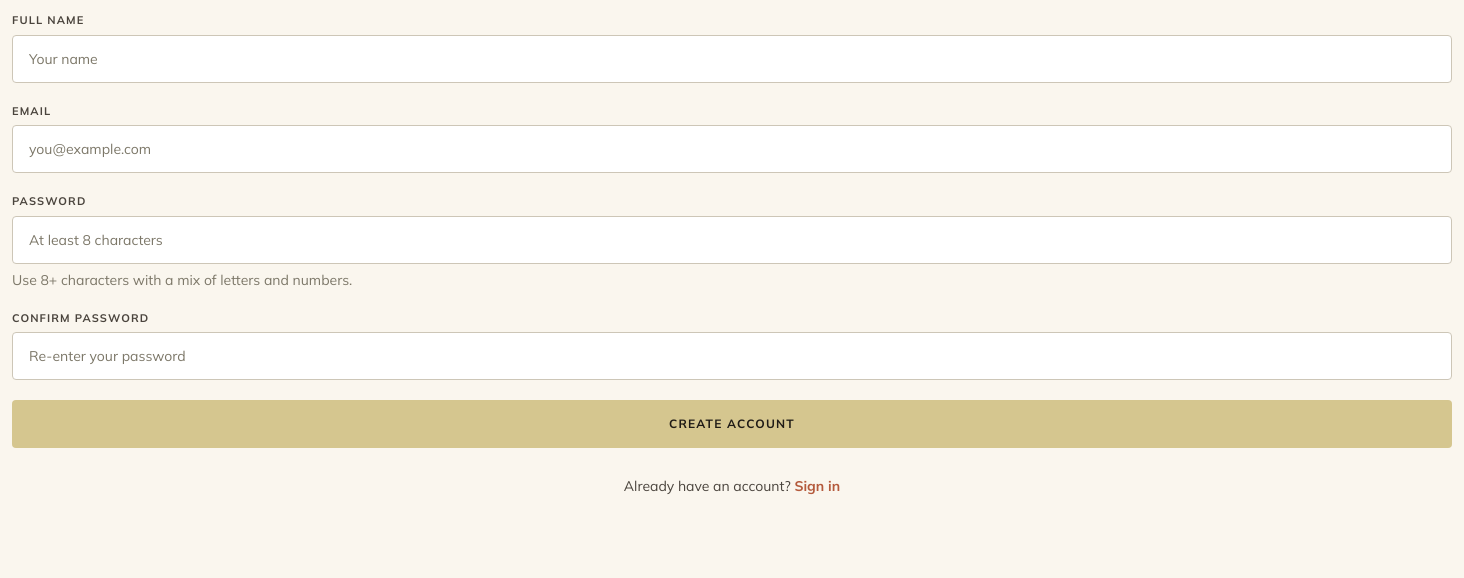
Test case: RegisterForm › shows a generic error for other failures
The image size is (1464, 578).
Type "Jane Doe" into the field with test id "register-name-input" at {"x": 732, "y": 58}, box [12,34,1452,82]
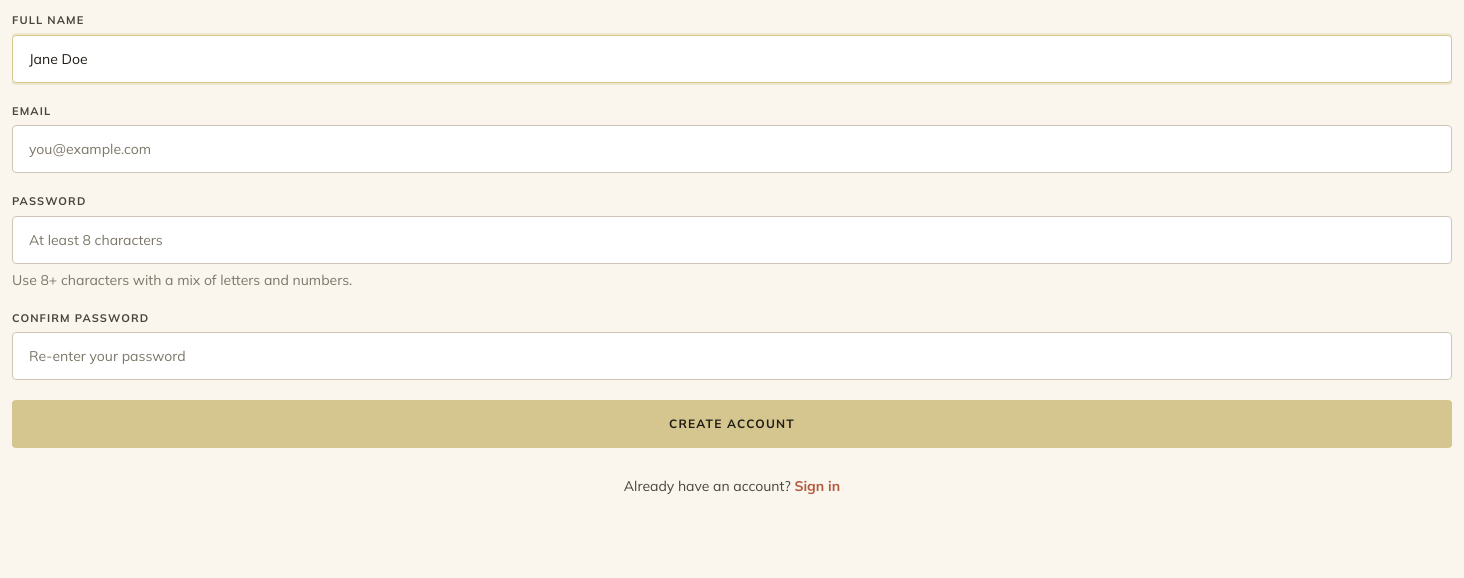
Type "jane@example.com" into the field with test id "register-email-input" at {"x": 732, "y": 149}, box [12,125,1452,173]
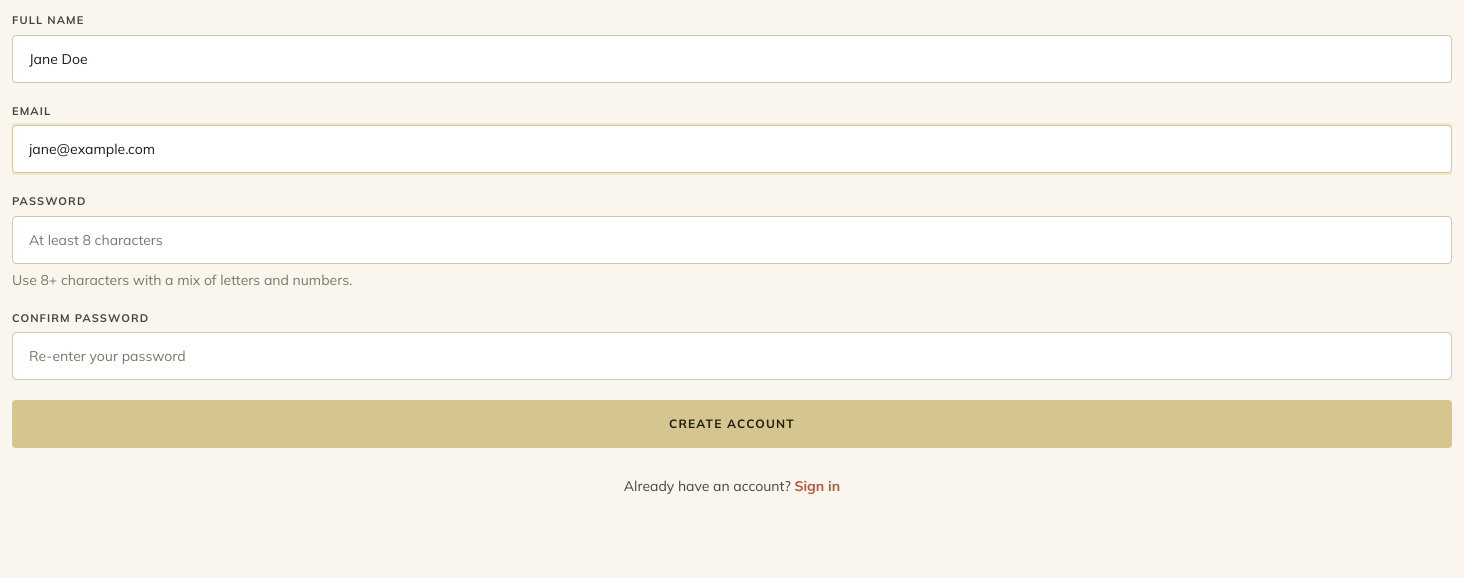
Type "password123" into the password field with test id "register-password-input" at {"x": 732, "y": 240}, box [12,216,1452,264]
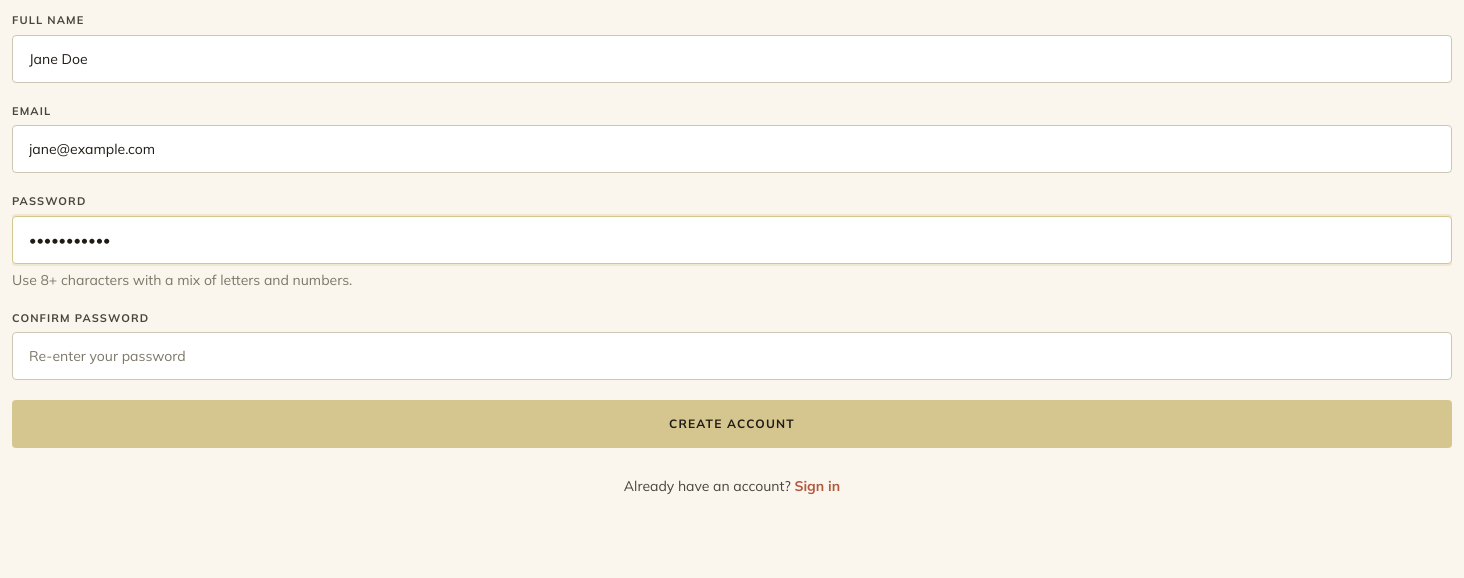
Type "password123" into the password field with test id "register-confirm-password-input" at {"x": 732, "y": 356}, box [12,332,1452,380]
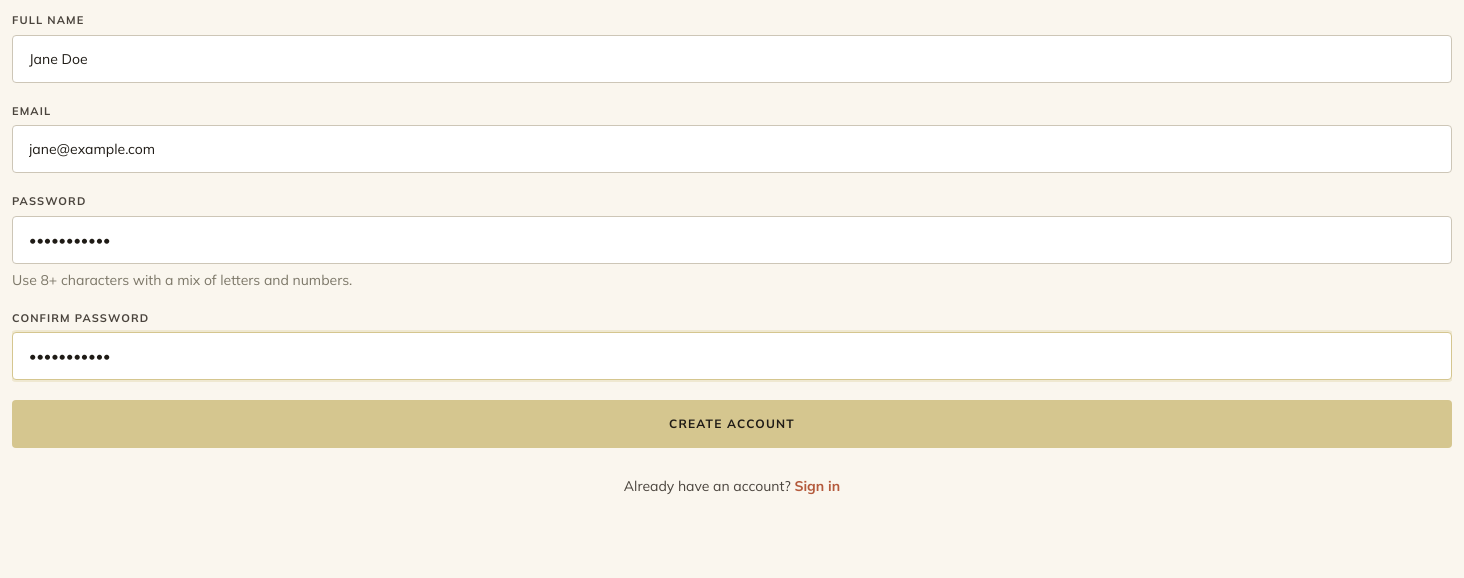
Click the button with test id "register-submit-button" at {"x": 732, "y": 424}, box [12,400,1452,448]
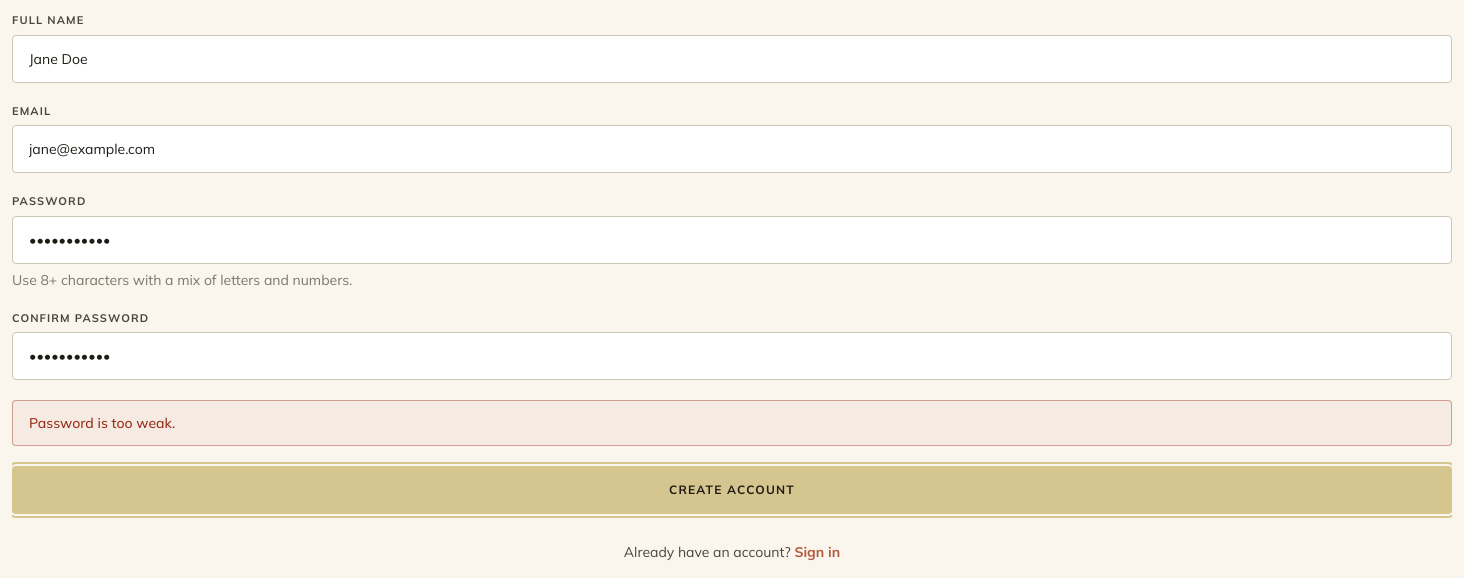
Result: the message with test id "register-generic-error" reads "Password is too weak." at [29,414,175,432]
